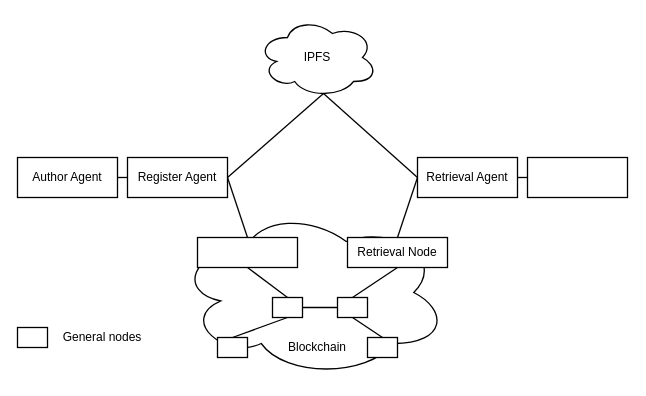
Image size: 646x396. Some labels were removed from this diagram. The centre of each missing label's shape, as x and y in pixels:
"Device" belongs at point 577,177.
"Register Node" belongs at point 247,252.
